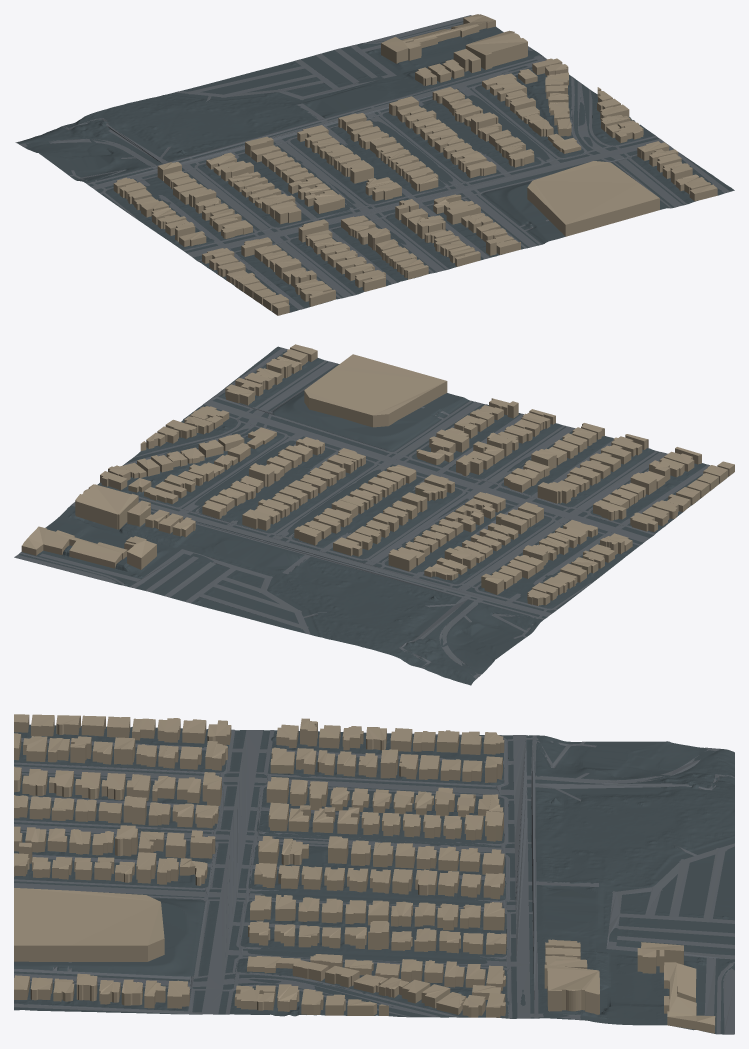
File: epsg26910-1421-10875.lod0.glb
3 views of the same model, one above another, from view 1: azimuth 30°, elevation 25°; view 2: azimuth 150°, elevation 25°; view 3: azimuth 270°, elevation 25° (orthographic). The views are drawn at different scales.
Visible parts, largest first — view 1: epsg26910-1421-10875-lod0; view 2: epsg26910-1421-10875-lod0; view 3: epsg26910-1421-10875-lod0.
Part boxes in pixels (x1,y1,x2,y2): epsg26910-1421-10875-lod0: [15, 14, 734, 315]; epsg26910-1421-10875-lod0: [14, 344, 734, 685]; epsg26910-1421-10875-lod0: [14, 714, 734, 1034].
Bounding box in the file's own units: 384 × 36.18 × 384.
